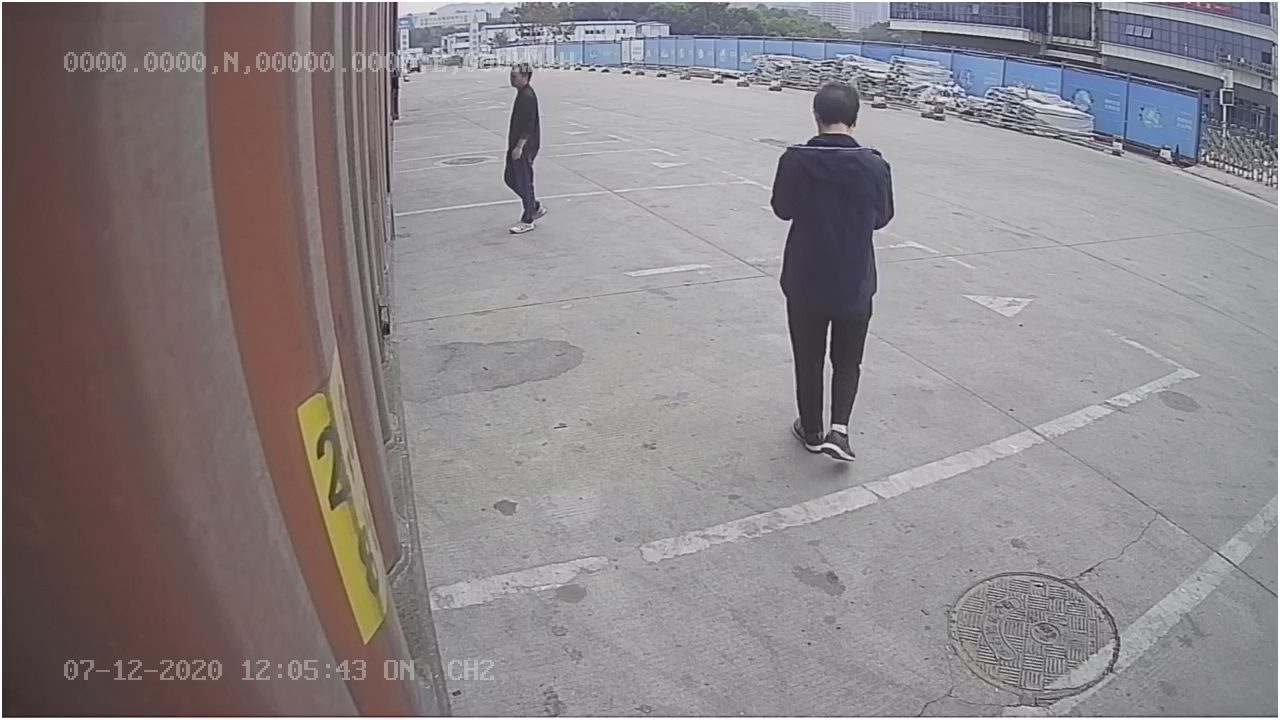person: (770, 82, 920, 460)
